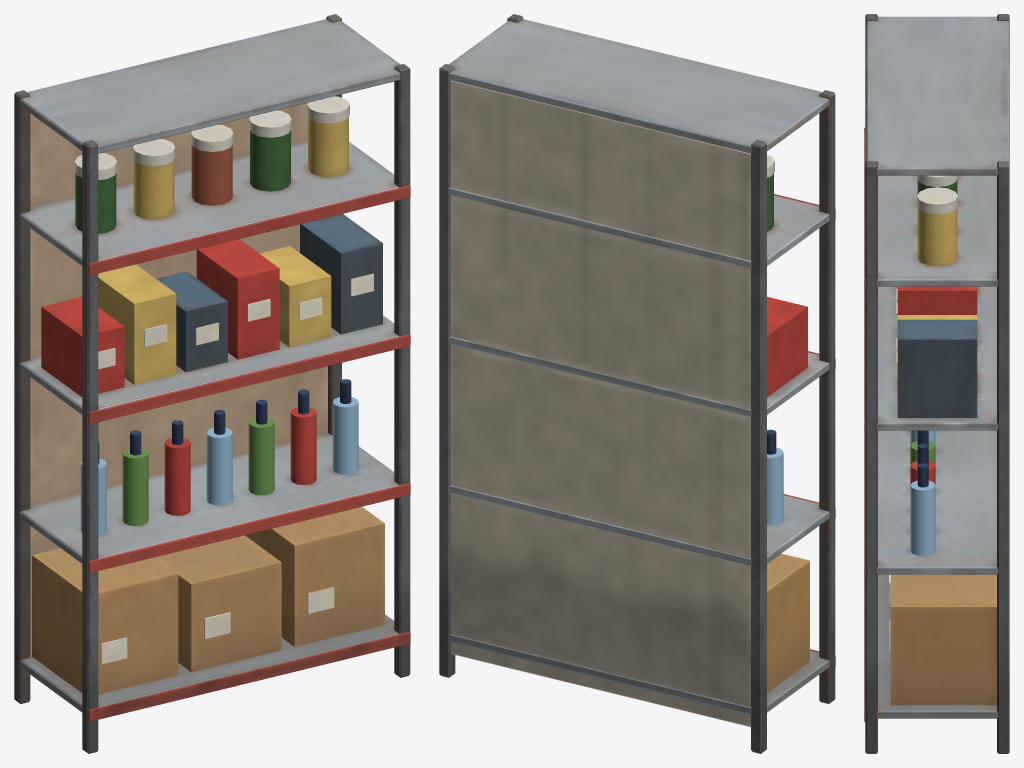
Rendered from shelf_unit.glb.
The picture shows the model from 3 angles, left to right: view 1: azimuth 30°, elevation 25°; view 2: azimuth 150°, elevation 25°; view 3: azimuth 270°, elevation 25°; orthographic projection. The views are drawn at different scales.
Parts seen in each view (by area): view 1: shelf_unit; view 2: shelf_unit; view 3: shelf_unit.
Part boxes in pixels (left/top/right/bottom): shelf_unit: left=14, top=14, right=410, bottom=753; shelf_unit: left=439, top=14, right=835, bottom=753; shelf_unit: left=864, top=14, right=1009, bottom=753.
Size of the model in its own units: 1 by 1.8 by 0.403.
Materials: 15 (13 with a texture image).
